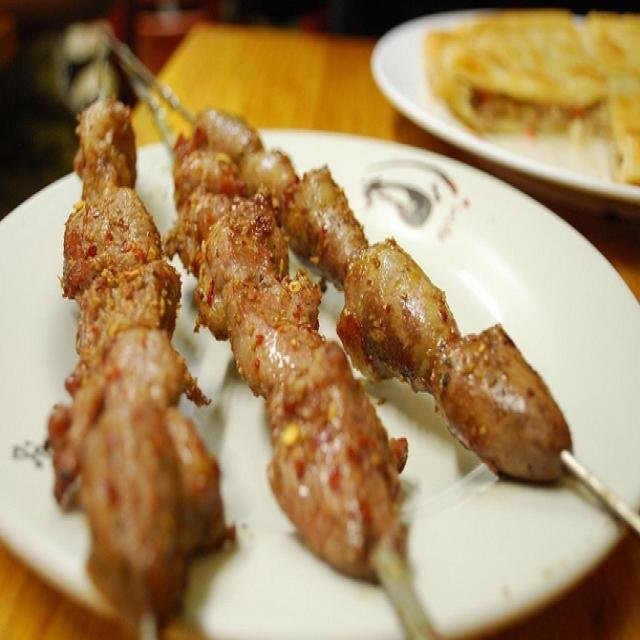烧串烤肉: (40, 44, 599, 602)
